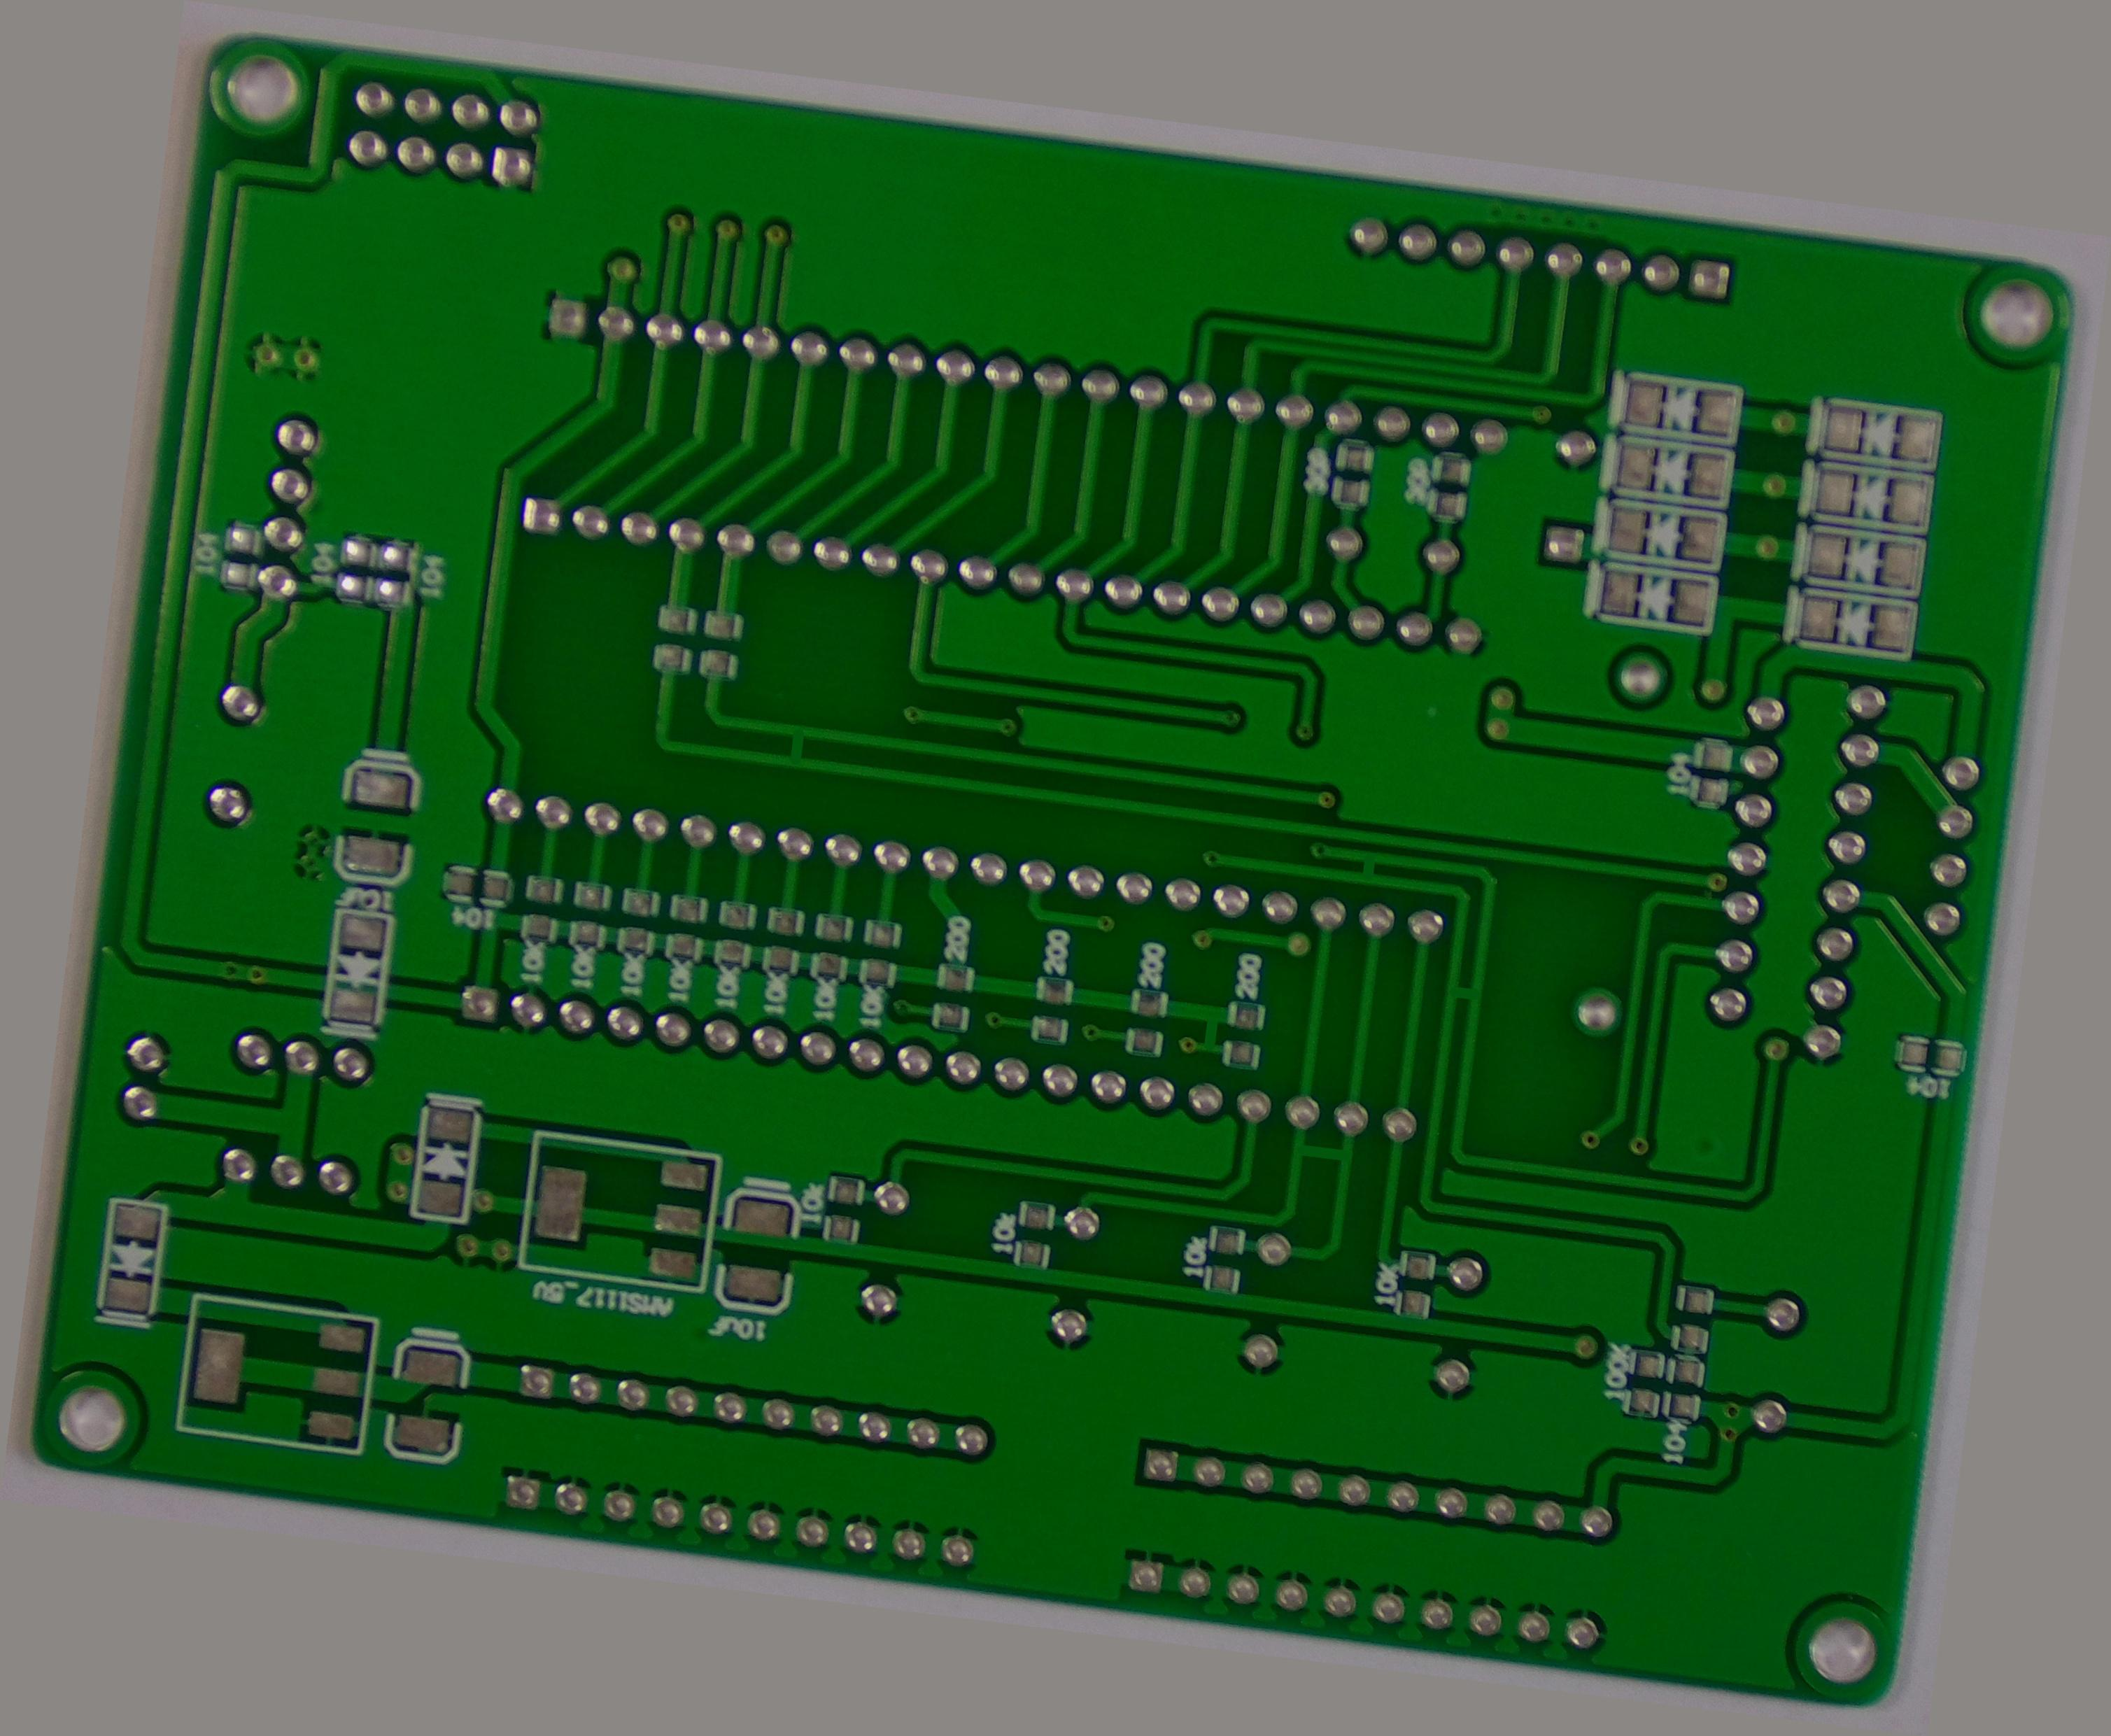short: (1280, 1129, 1368, 1182), (1185, 994, 1240, 1061), (768, 710, 822, 775), (1436, 971, 1492, 1019), (1340, 843, 1387, 893)
